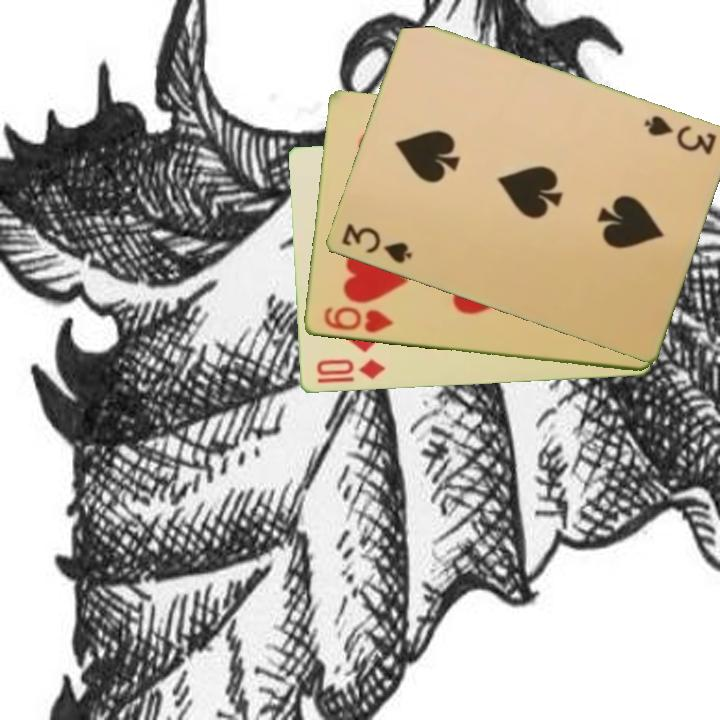10d: (312, 356, 388, 382)
3s: (640, 112, 719, 158), (337, 220, 414, 267)
6h: (319, 304, 396, 336)
